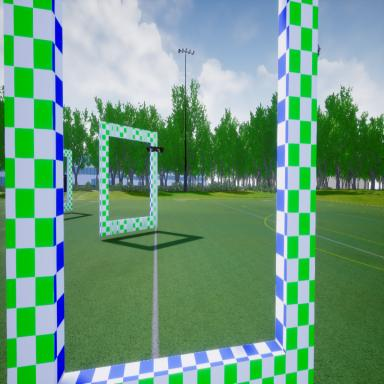gate: (98, 118, 158, 246)
